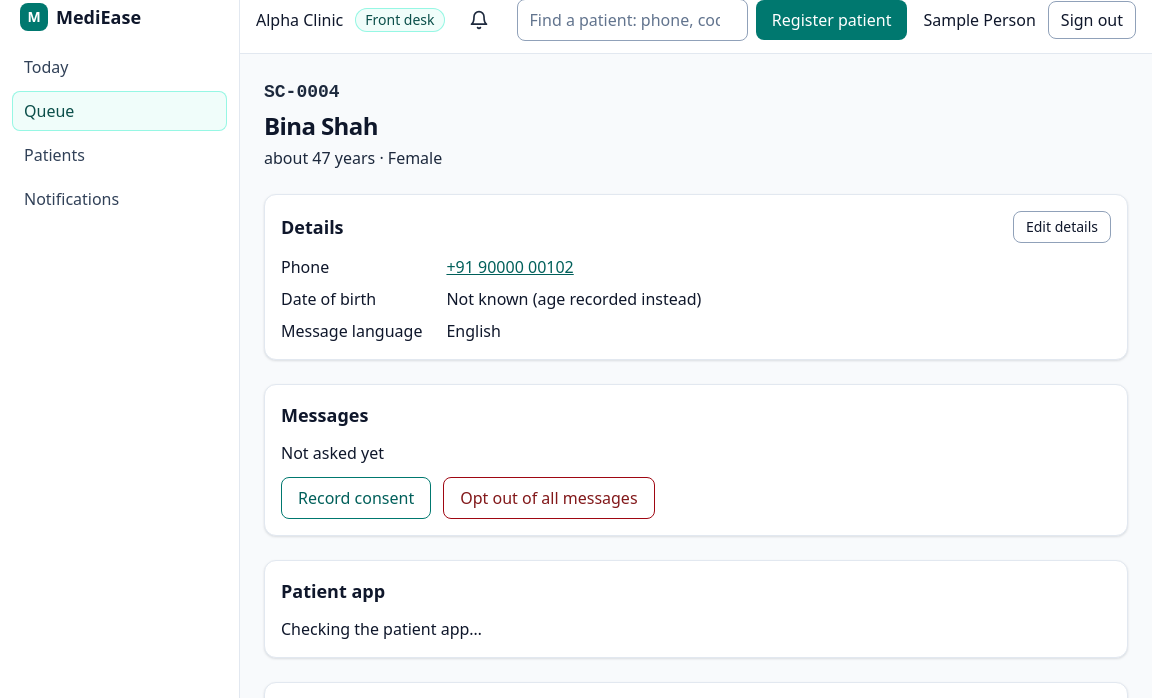
Scenario: consent, opt-out and opt-in (FR-PAT-05, FR-MSG-05) › FR-PAT-05: records the answer with PUT and shows what is allowed
Step 1. Click the button "Record consent" → coordinates (356, 498), box x1=281 y1=477 x2=431 y2=519
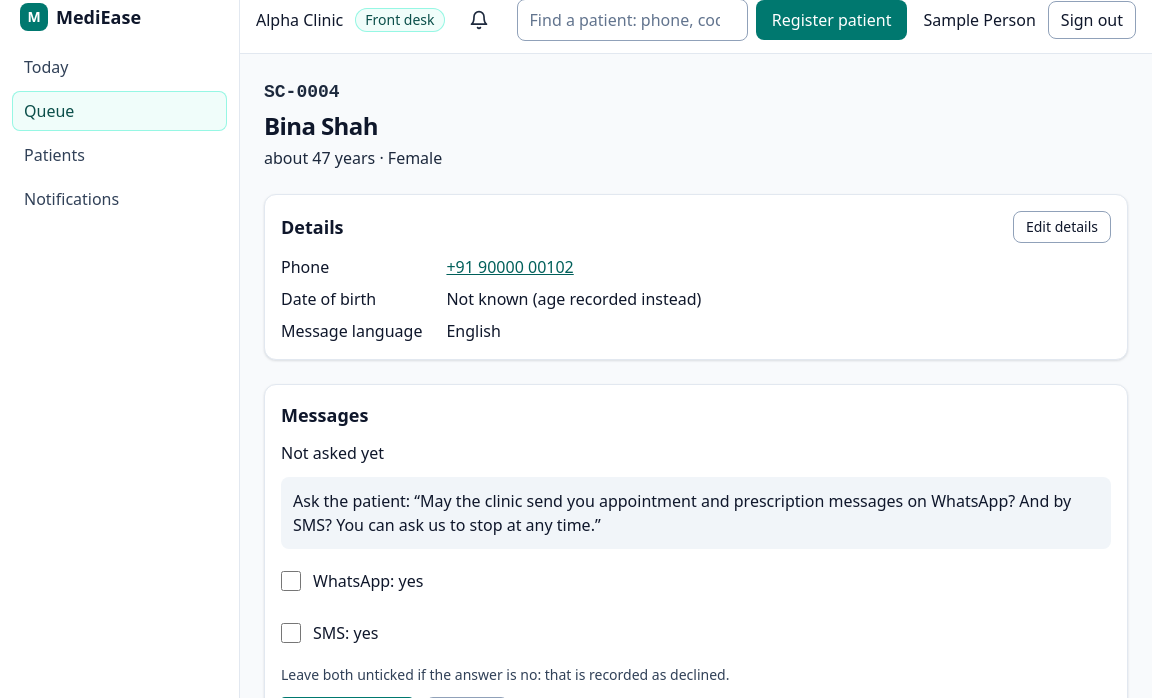
Result: the text "Ask the patient:" is shown at x1=281 y1=477 x2=1111 y2=549
Step 2. Click the checkbox labelled "WhatsApp: yes" → coordinates (291, 581), box x1=281 y1=571 x2=301 y2=591
(page scrolled)
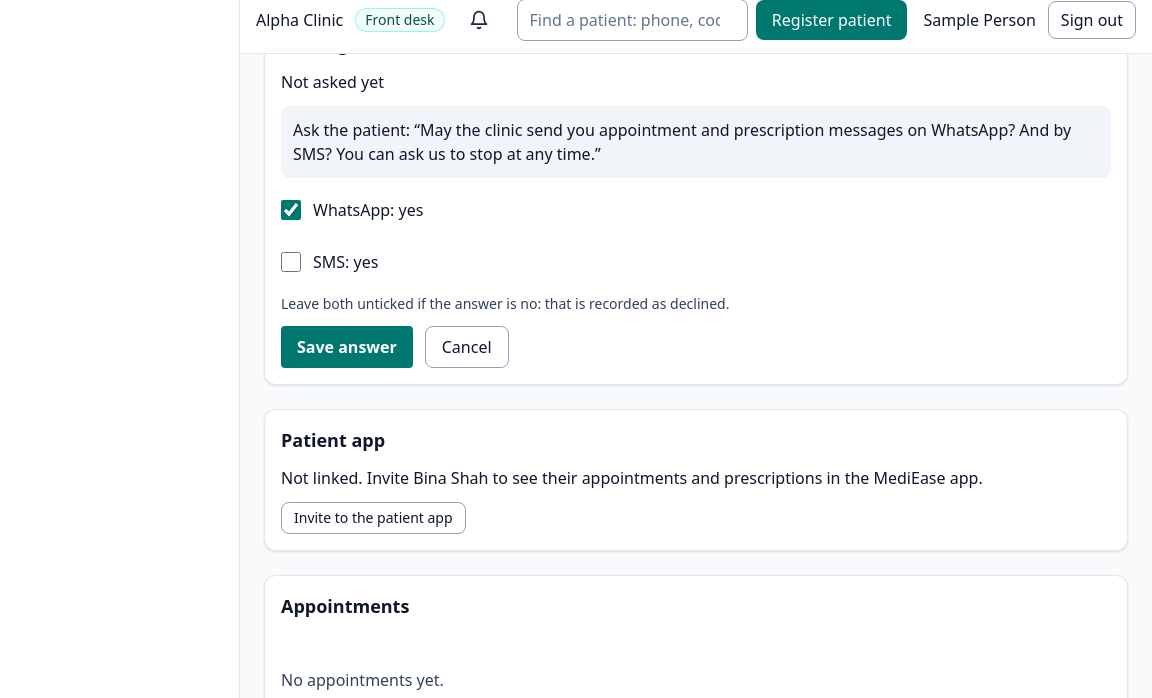
Step 3. Click the button "Save answer" → coordinates (347, 347), box x1=281 y1=326 x2=413 y2=368
(page scrolled)
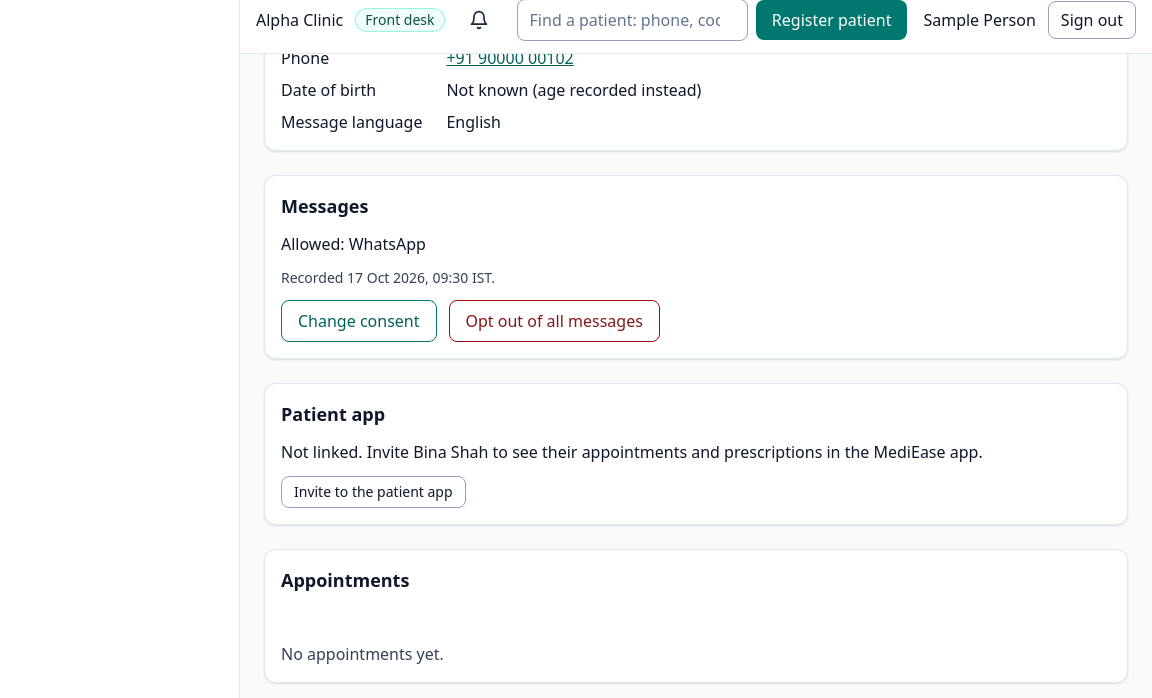
Result: the text "Allowed: WhatsApp" is shown at x1=281 y1=233 x2=426 y2=255
Result: the text "Recorded 17 Oct 2026, 09:30 IST." is shown at x1=281 y1=268 x2=495 y2=287
